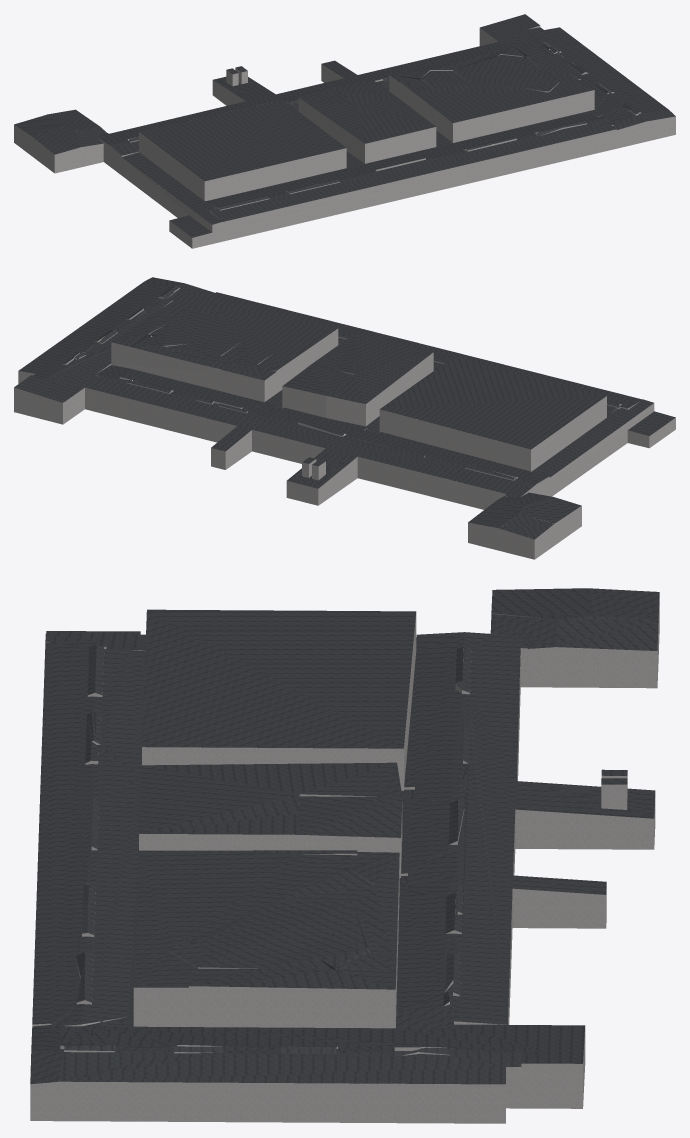
3 views of the same model, one above another, from view 1: azimuth 30°, elevation 25°; view 2: azimuth 150°, elevation 25°; view 3: azimuth 270°, elevation 25° (orthographic). The views are drawn at different scales.
Visible parts, largest first — view 1: bldg_6004321233_roof, bldg_6004321233; view 2: bldg_6004321233_roof, bldg_6004321233; view 3: bldg_6004321233_roof, bldg_6004321233.
Part boxes in pixels (left/top/right/bottom): bldg_6004321233_roof: left=14, top=14, right=675, bottom=237; bldg_6004321233: left=14, top=25, right=675, bottom=248; bldg_6004321233_roof: left=14, top=277, right=675, bottom=539; bldg_6004321233: left=14, top=287, right=675, bottom=559; bldg_6004321233_roof: left=30, top=588, right=659, bottom=1084; bldg_6004321233: left=30, top=597, right=659, bottom=1123.
Bounding box in the file's own units: 252 × 19.35 × 135.
2 materials, 2 textured.
